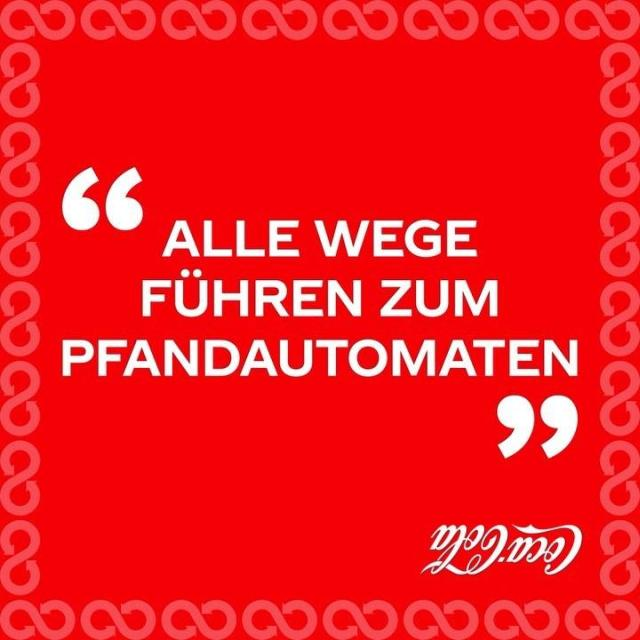coca-cola: (420, 523, 585, 584)
